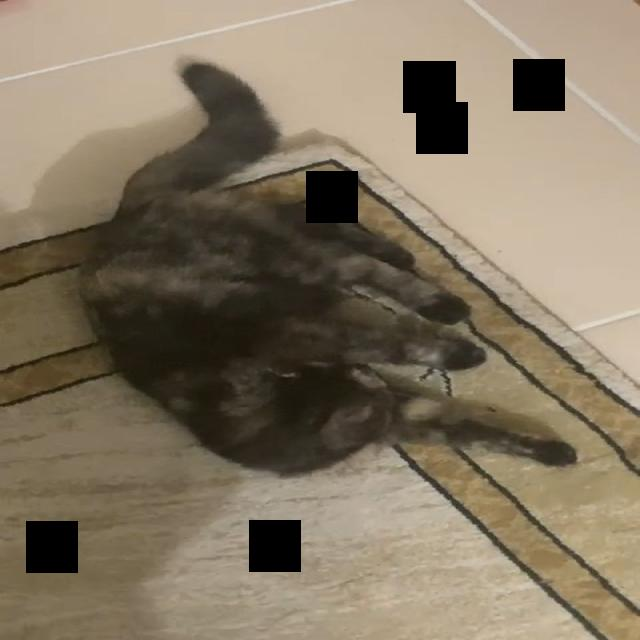authorized: (73, 55, 579, 479)
